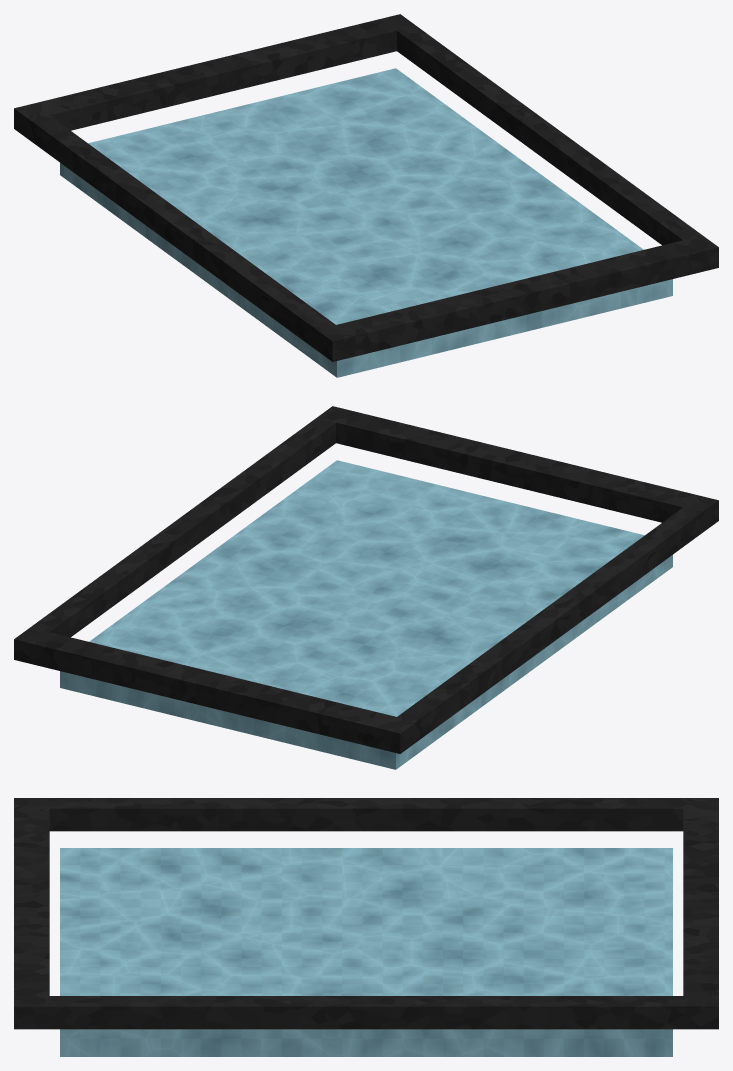
File: catto_ball_track_1.glb
3 renders of one model, top to bottom at view 1: azimuth 30°, elevation 25°; view 2: azimuth 150°, elevation 25°; view 3: azimuth 270°, elevation 25°, orthographic. The views are drawn at different scales.
Parts seen in each view (by area): view 1: Platform, Rail; view 2: Platform, Rail; view 3: Platform, Rail.
Part boxes in pixels (left/top/right/bottom): Platform: left=60, top=68, right=672, bottom=377; Rail: left=14, top=14, right=718, bottom=361; Platform: left=60, top=460, right=672, bottom=769; Rail: left=14, top=406, right=718, bottom=753; Platform: left=60, top=848, right=672, bottom=1056; Rail: left=14, top=798, right=718, bottom=1029.
Size of the model in its own units: 5.03 by 0.7194 by 7.19.
Materials: 2 (2 with a texture image).
